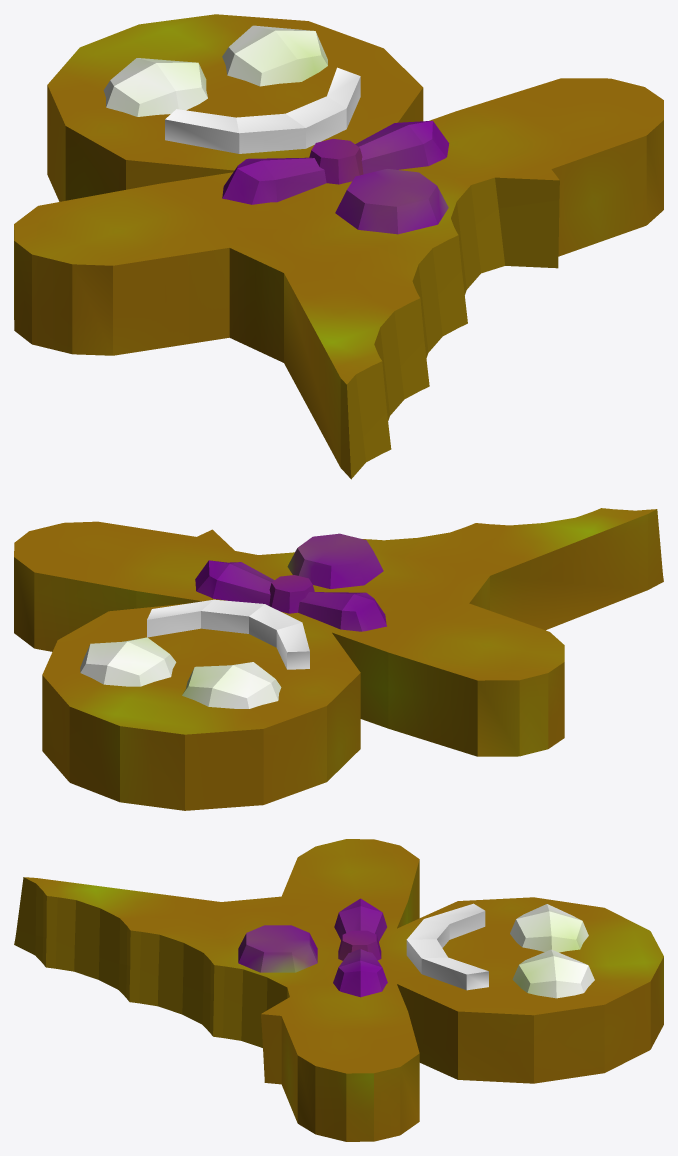
File: biscoito.fbx
3 views of the same model, one above another, from view 1: azimuth 30°, elevation 25°; view 2: azimuth 150°, elevation 25°; view 3: azimuth 270°, elevation 25° (orthographic). The views are drawn at different scales.
Visible parts, largest first — view 1: CoockieMan.007; view 2: CoockieMan.007; view 3: CoockieMan.007.
Part boxes in pixels (box(x1,y1,x2,y2)): CoockieMan.007: box(14, 14, 663, 479); CoockieMan.007: box(14, 508, 663, 810); CoockieMan.007: box(14, 839, 663, 1141).
Bounding box in the file's own units: 192 × 35.19 × 225.
Materials: 1 (1 with a texture image).
